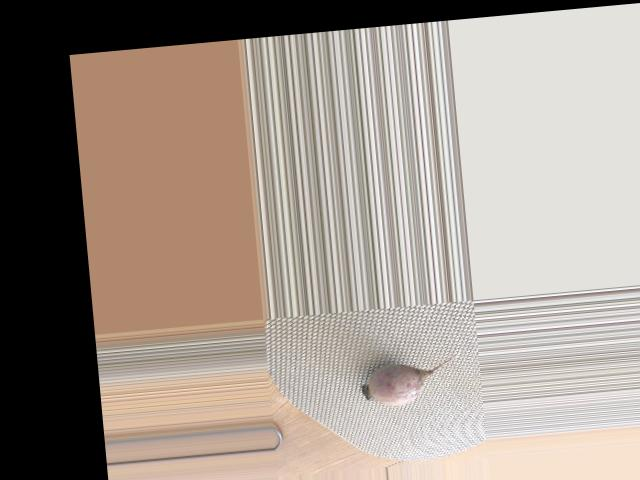beet: (357, 348, 464, 408)
